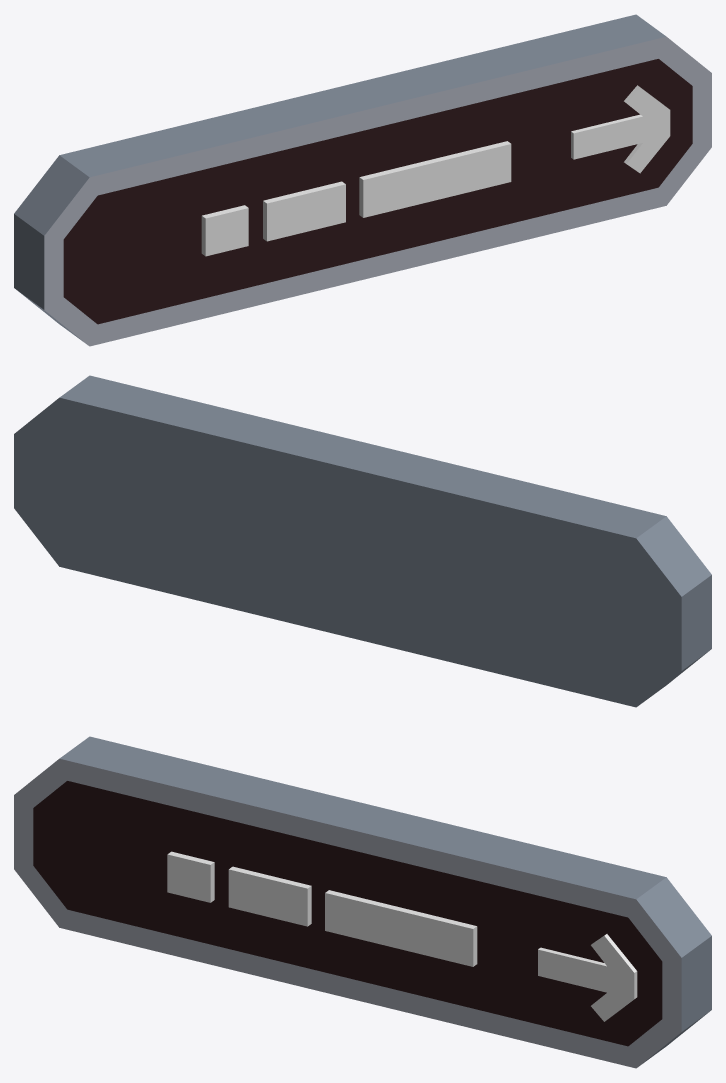
The model's file is TB_CITY_Prop_Sign_Part_C.FBX.
3 renders of one model, top to bottom at view 1: azimuth 30°, elevation 25°; view 2: azimuth 150°, elevation 25°; view 3: azimuth 330°, elevation 25°, orthographic.
Parts seen in each view (by area): view 1: TB_CITY_Prop_Sign_Part_C; view 2: TB_CITY_Prop_Sign_Part_C; view 3: TB_CITY_Prop_Sign_Part_C.
Boxes of the visible parts, left/top/right/bottom form: TB_CITY_Prop_Sign_Part_C: left=14, top=14, right=711, bottom=346; TB_CITY_Prop_Sign_Part_C: left=14, top=375, right=711, bottom=707; TB_CITY_Prop_Sign_Part_C: left=14, top=736, right=711, bottom=1068.
Size of the model in its own units: 2.22 by 0.5371 by 0.1974.
